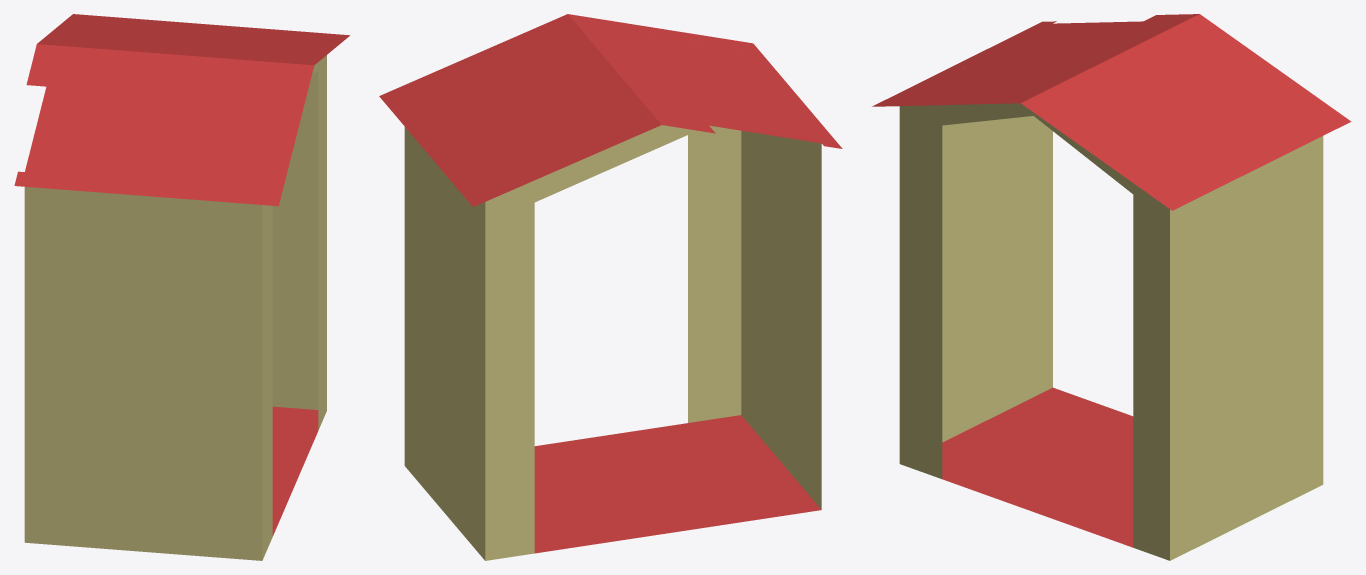
3 renders of one model, left to right at view 1: azimuth 30°, elevation 25°; view 2: azimuth 150°, elevation 25°; view 3: azimuth 270°, elevation 25°, orthographic.
Size of the model in its own units: 11.46 by 12.05 by 11.5.
